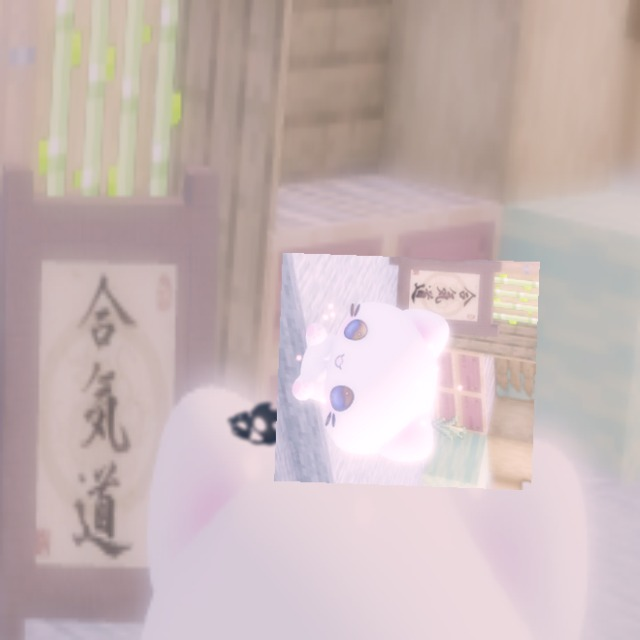urso_branco: (274, 252, 540, 491)
urso_preto: (222, 396, 291, 452), (401, 278, 426, 307)
